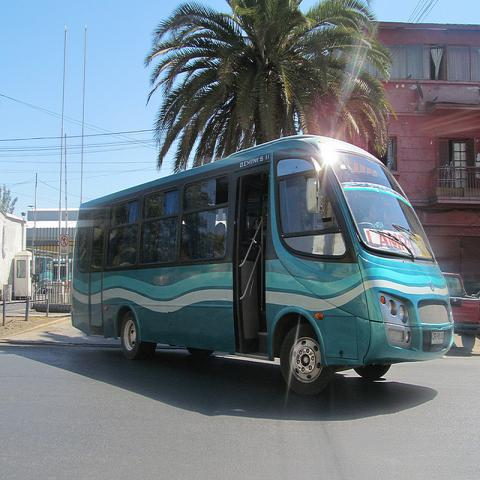bus: (72, 134, 456, 398)
truck: (443, 272, 479, 352)
